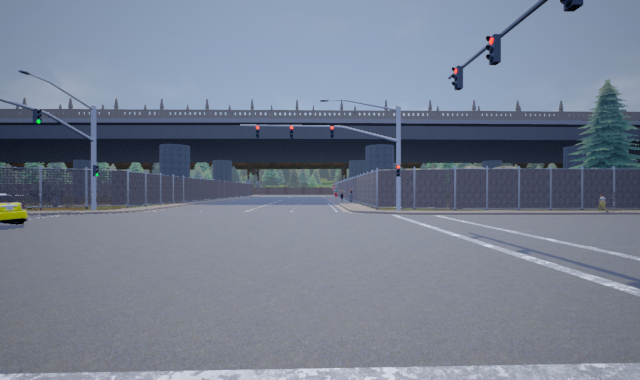pedestrian: (592, 191, 612, 212), (338, 186, 345, 202), (348, 186, 354, 202)
vehicle: (1, 192, 28, 228)
